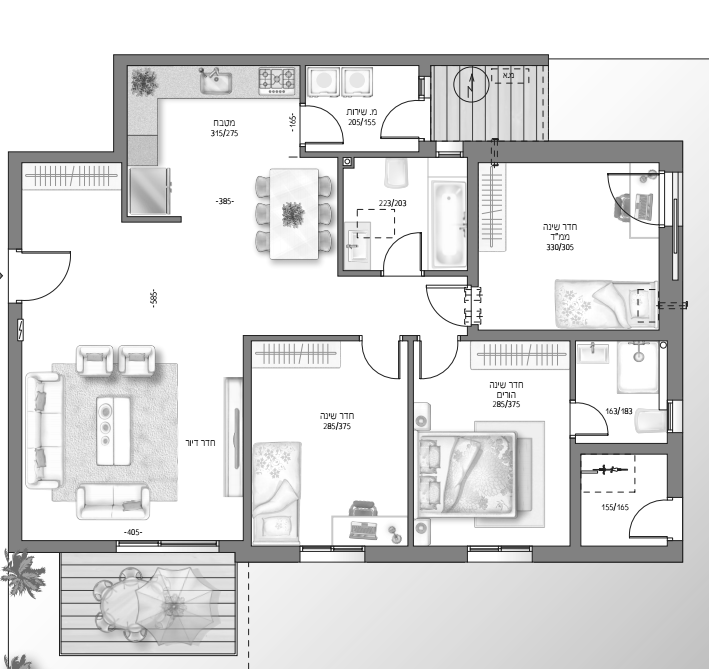door: (601, 168, 665, 231), (23, 246, 73, 304), (563, 398, 614, 443), (621, 496, 670, 541), (422, 281, 465, 328), (358, 343, 405, 386), (307, 105, 352, 149), (376, 101, 420, 144), (416, 341, 460, 382)
room: (467, 139, 682, 339), (241, 334, 414, 565), (407, 335, 581, 564), (335, 150, 478, 276)
wall: (468, 141, 682, 162), (8, 342, 22, 553), (112, 53, 128, 164), (7, 151, 126, 163)
window: (115, 539, 219, 553), (297, 545, 365, 566), (466, 544, 533, 564)
